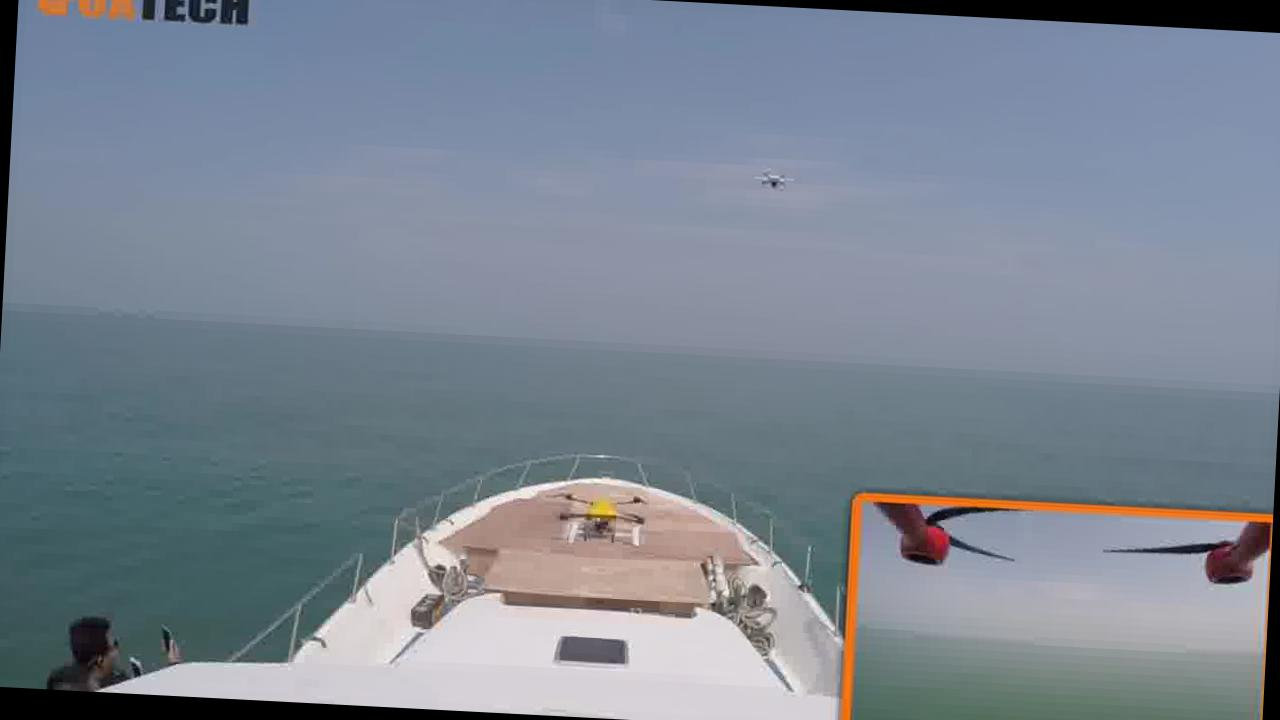drone: (522, 460, 672, 562), (732, 151, 802, 215)
